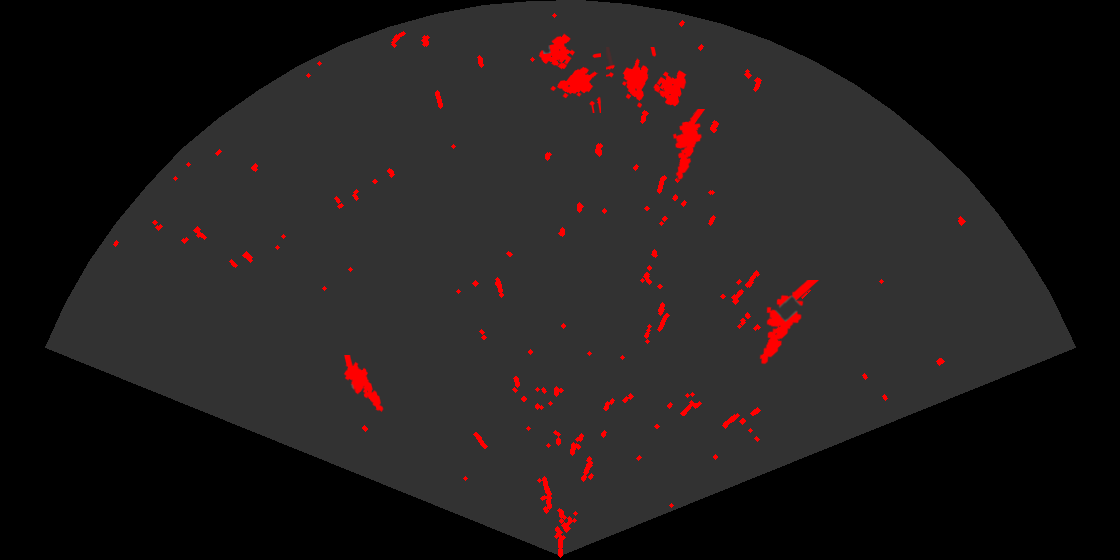cage: (537, 32, 601, 113), (606, 47, 688, 110)
frogman: (758, 280, 821, 366), (671, 109, 707, 181), (342, 355, 385, 414)
